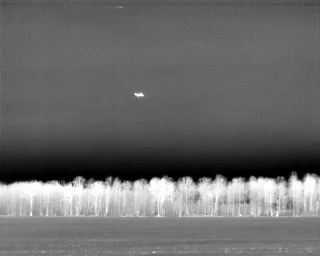DRONE: (131, 88, 149, 102)
